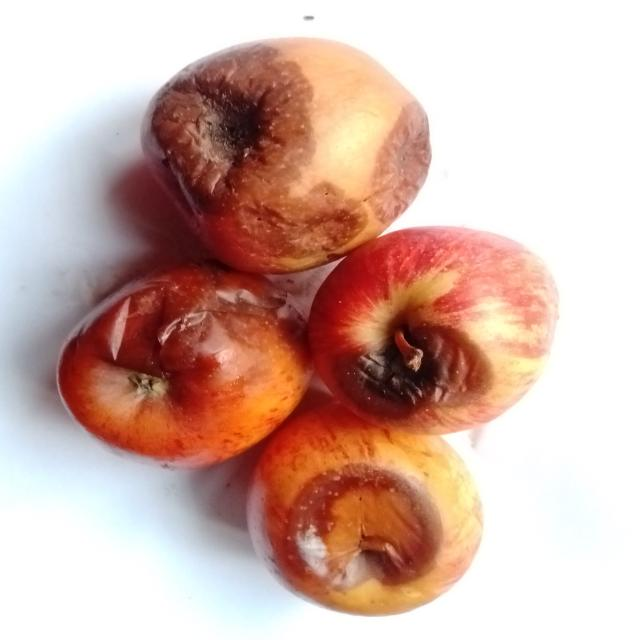apple: (142, 38, 431, 273), (58, 264, 310, 467), (309, 227, 557, 433), (248, 404, 482, 615)
